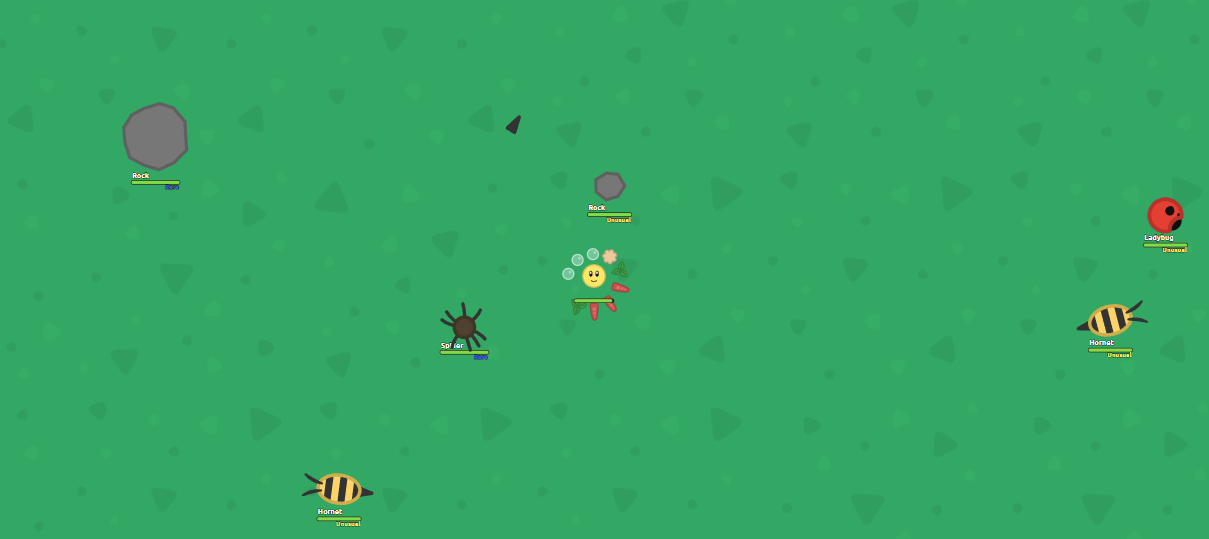Hornet: (311, 471, 375, 508), (1074, 303, 1138, 338)
Ladybug: (1145, 194, 1185, 236)
Rock: (120, 102, 190, 173), (592, 171, 627, 202)
Spider: (438, 300, 489, 353)
